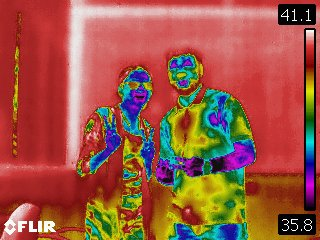human: (156, 46, 258, 240), (76, 64, 156, 240)
